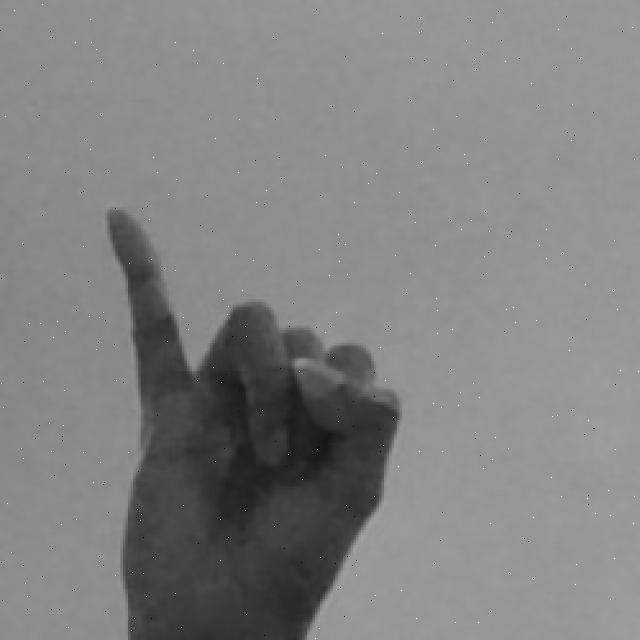I: (100, 204, 414, 640)
